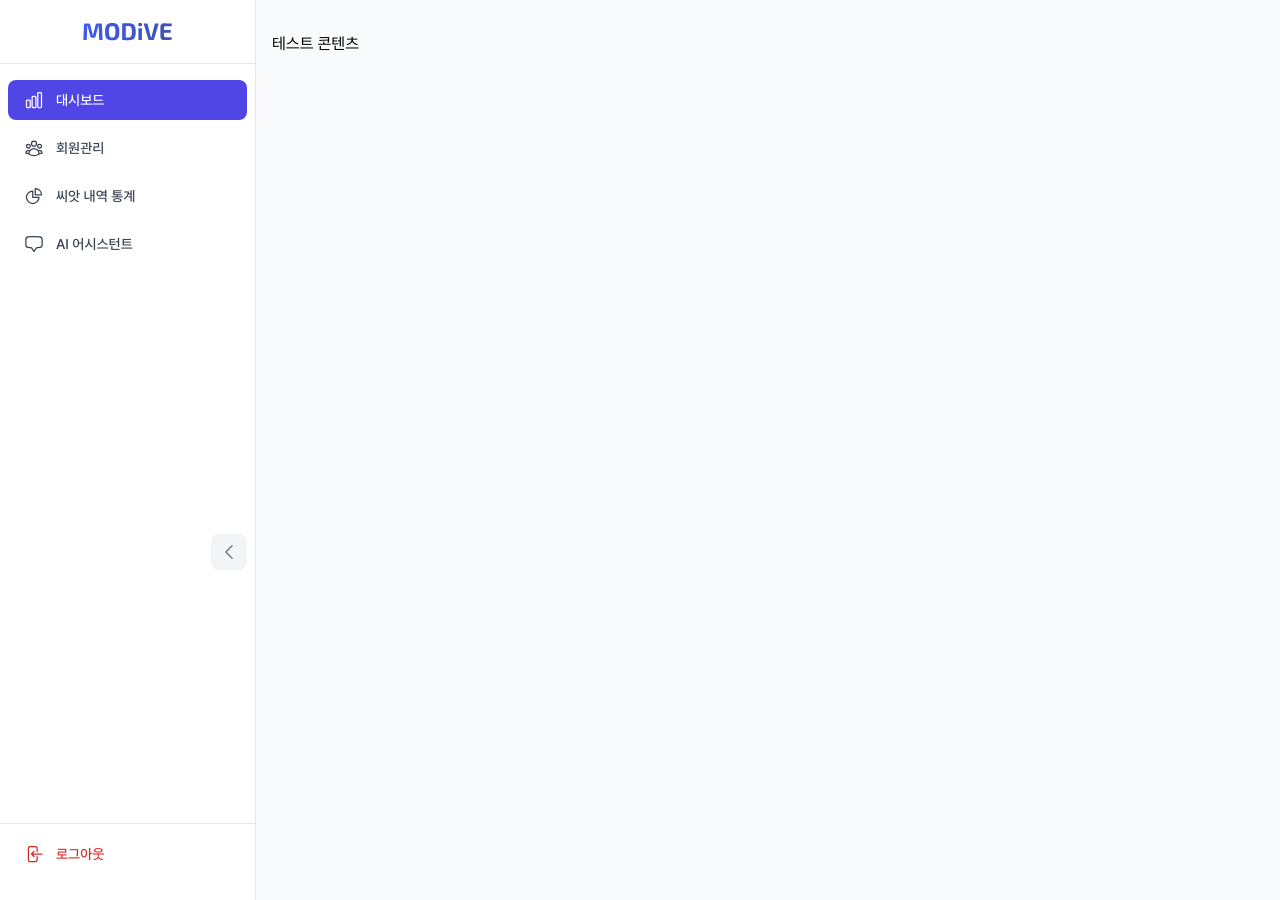
Layout › TC-LAYOUT-009::Unit::컴포넌트 동작::모달 닫기 아이콘 클릭::모달 닫기
This screenshot has width=1280, height=900.
Note: 로그아웃 버튼 클릭하여 모달 표시
Click the button "로그아웃" at x=128, y=854, box [8, 832, 247, 876]
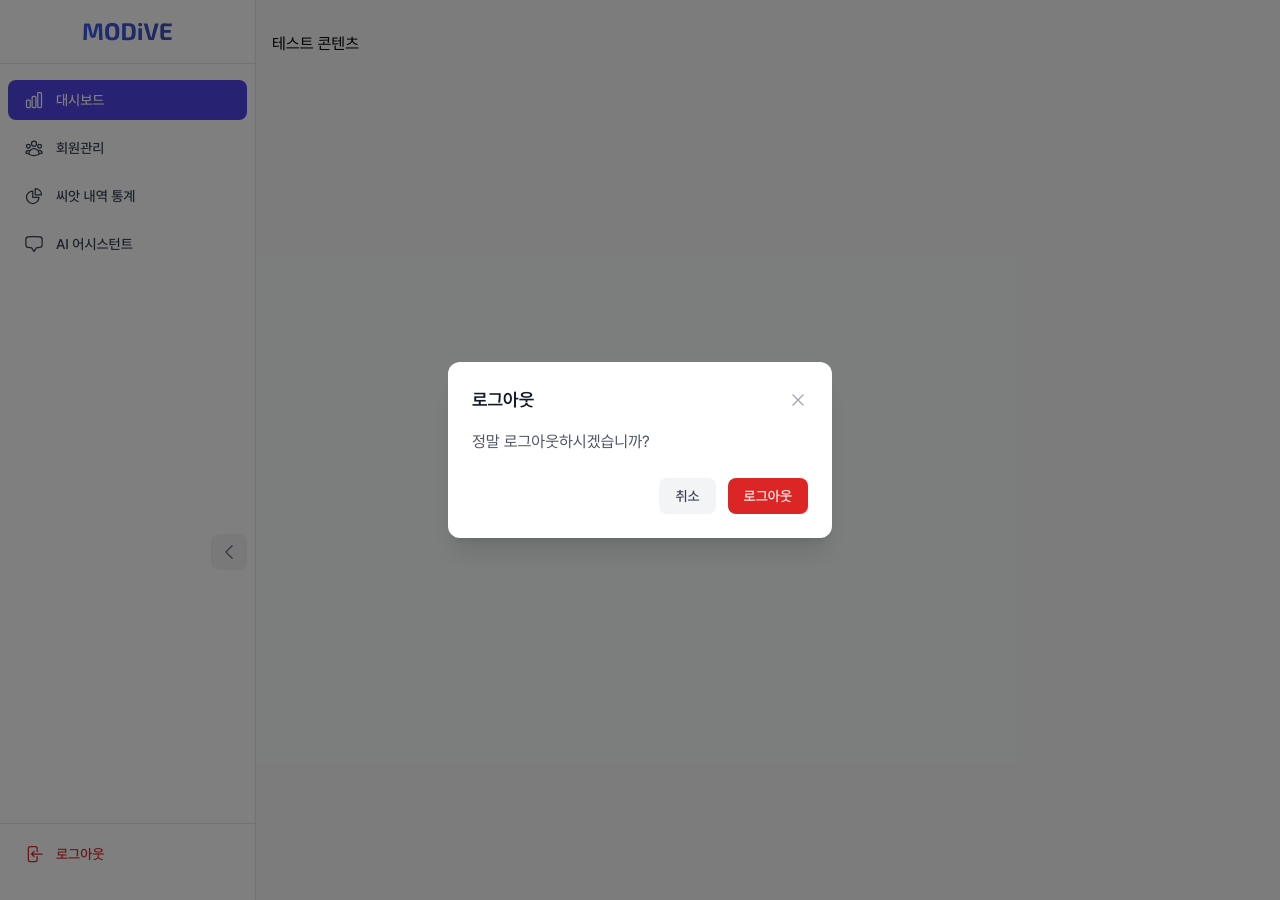
Note: X 아이콘 클릭
Click the 1st button at x=798, y=400, box [788, 390, 808, 410]
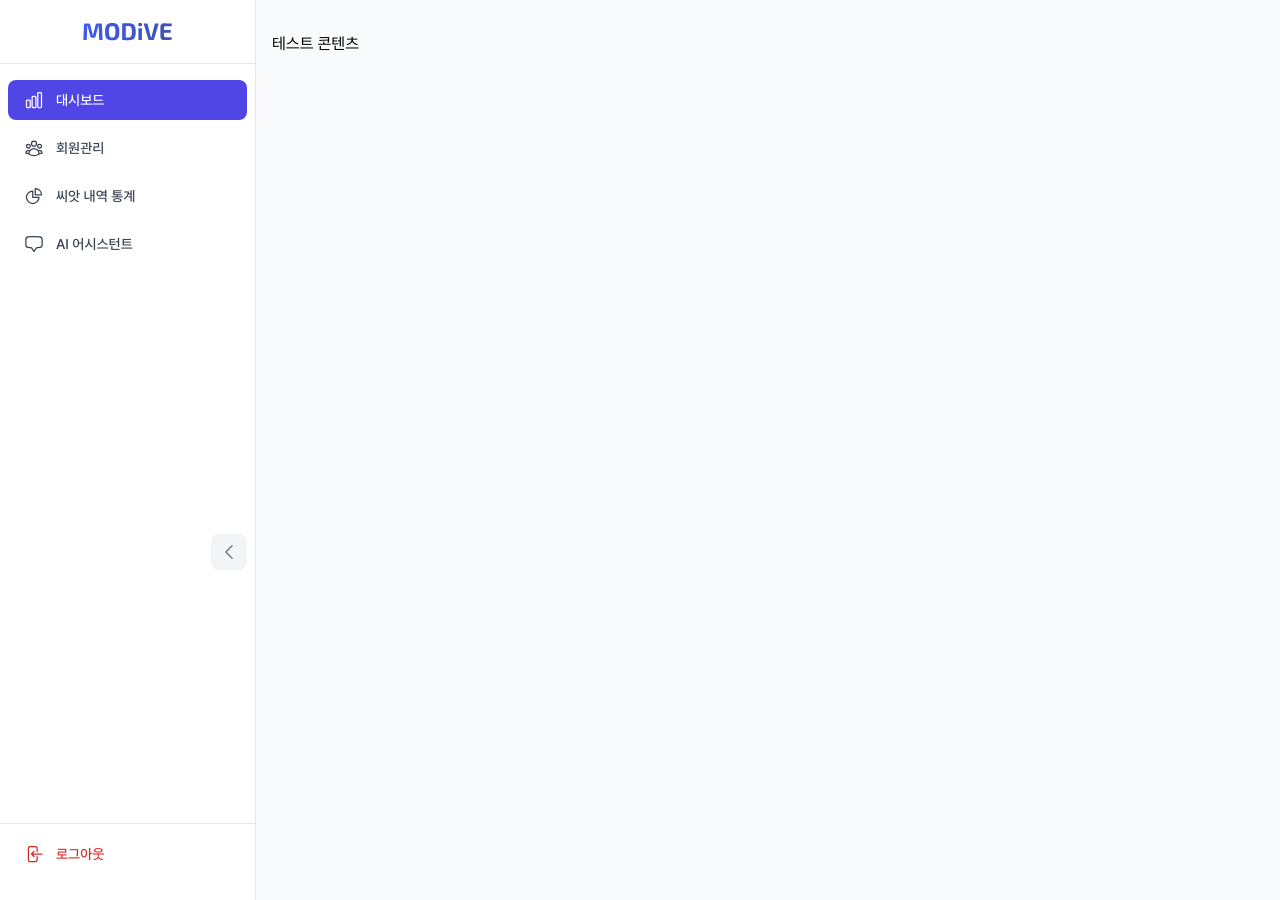
Expected: the text "정말 로그아웃하시겠습니까?" is gone
